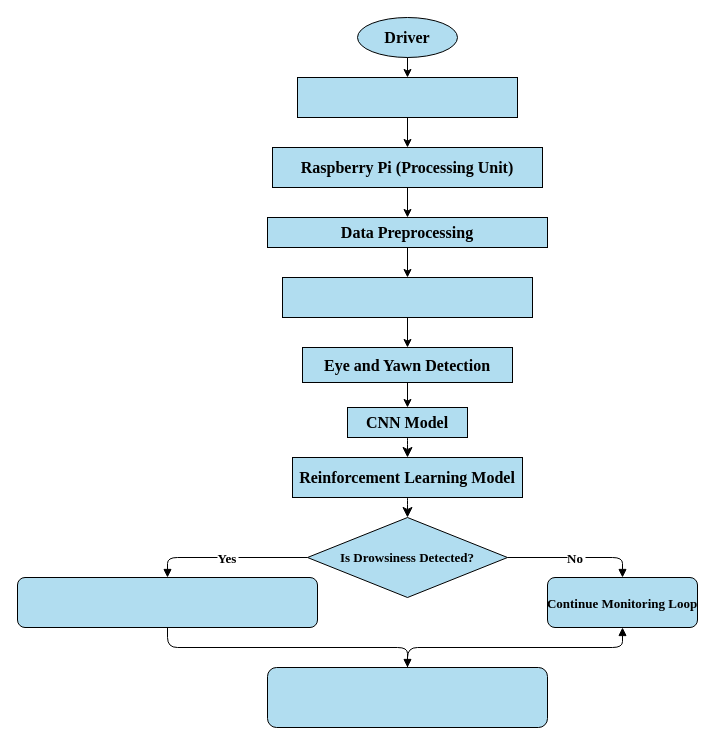
Some shapes in this 715 by 753 pixel diagram are drawn without their labels. The shapes that lost their labels are listed below. From the top down, each one's box as (x1, y1, x2, y2) in pixels, then its label:
(296, 76, 518, 118): Infrared Camera And Vibration Sensor
(282, 276, 532, 318): Facial Landmark Detection
(16, 576, 318, 628): Trigger speaker (custom audio) + vibration motor
(266, 666, 548, 728): Log Detection Event + Update RL Feedback
